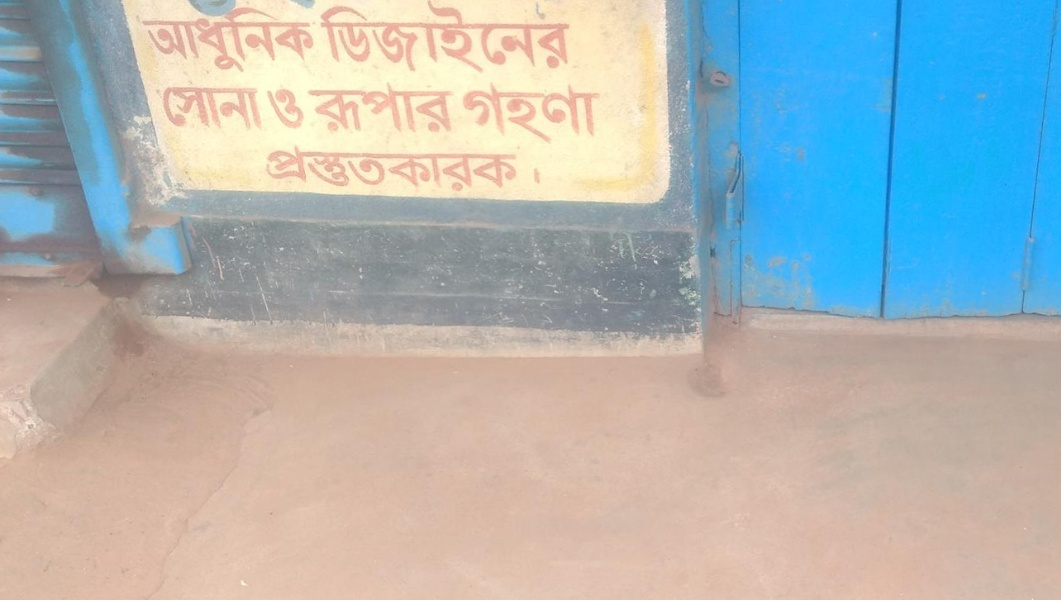text: (561, 1, 577, 77), (321, 1, 336, 77), (337, 1, 352, 77), (353, 1, 368, 77), (369, 1, 384, 77), (385, 1, 400, 77), (401, 1, 416, 77), (417, 1, 432, 77), (433, 1, 448, 77), (449, 1, 464, 77), (465, 1, 480, 77), (481, 1, 496, 77), (497, 1, 512, 77), (513, 1, 528, 77), (529, 1, 544, 77), (545, 1, 560, 77), (145, 5, 160, 73), (161, 5, 176, 73), (177, 5, 192, 73), (193, 5, 208, 73), (209, 5, 224, 73), (225, 5, 240, 73), (241, 5, 256, 73), (257, 5, 272, 73), (273, 5, 288, 73), (289, 5, 304, 73), (465, 81, 480, 147), (481, 81, 496, 147), (497, 81, 512, 147), (513, 81, 528, 147), (529, 81, 544, 147), (545, 81, 560, 147), (561, 81, 576, 147), (577, 81, 592, 147), (321, 81, 336, 136), (337, 81, 352, 136), (353, 81, 368, 136), (369, 81, 384, 136), (385, 81, 400, 136), (401, 81, 416, 136), (417, 81, 432, 136), (433, 81, 448, 136), (132, 5, 144, 73), (306, 81, 320, 136), (273, 143, 288, 193), (289, 143, 304, 193), (305, 143, 320, 193), (321, 143, 336, 193), (337, 143, 352, 193), (353, 143, 368, 193), (369, 143, 384, 193), (385, 143, 400, 193), (401, 143, 416, 193), (417, 143, 432, 193), (433, 143, 448, 193), (449, 143, 464, 193), (465, 143, 480, 193), (481, 143, 496, 193), (497, 143, 512, 193), (161, 86, 176, 134), (177, 86, 192, 134), (193, 86, 208, 134), (209, 86, 224, 134), (225, 86, 240, 134), (241, 86, 256, 134), (289, 88, 305, 130), (273, 88, 288, 130), (449, 81, 460, 136), (260, 143, 272, 193), (513, 143, 524, 193), (305, 5, 313, 73), (313, 1, 320, 77), (257, 86, 267, 134), (593, 81, 600, 147), (460, 81, 464, 147), (267, 88, 272, 130), (158, 86, 160, 134)
